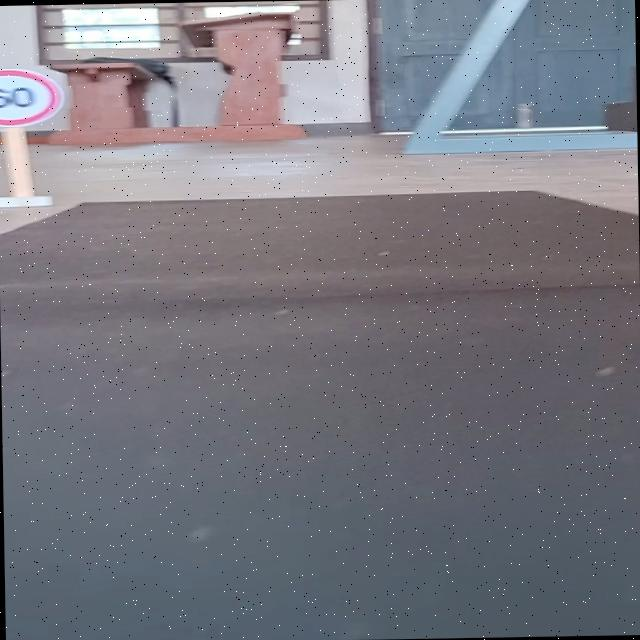Speed60: (0, 64, 66, 128)
